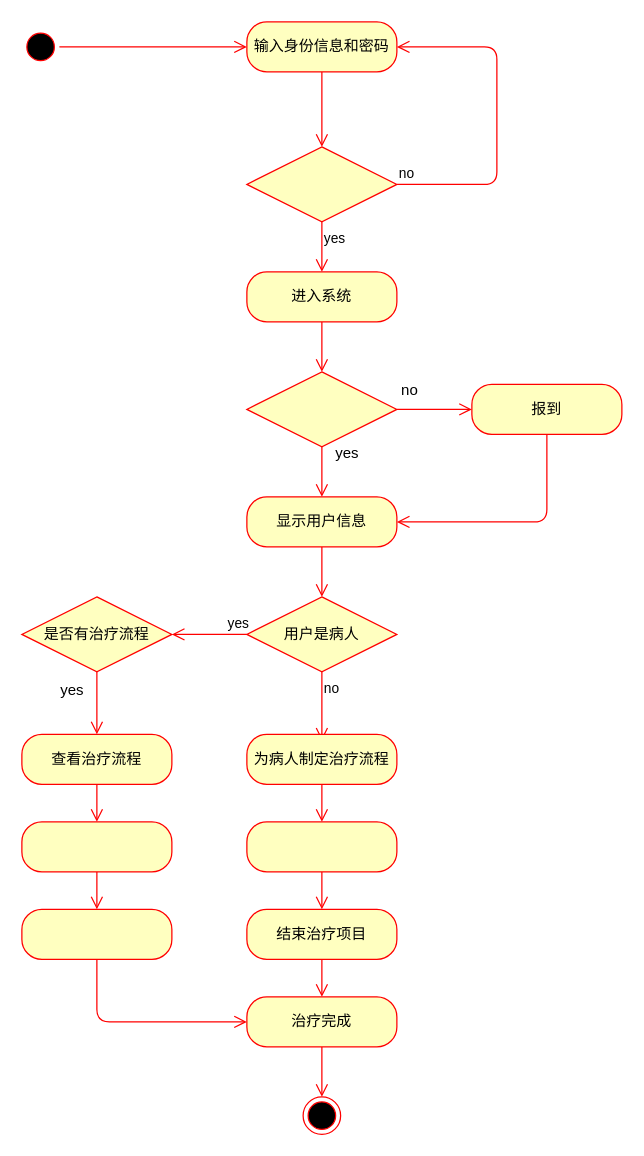
Some shapes in this 644 by 1156 pixel diagram are drawn without their labels. The shapes that lost their labels are listed below. From the top down, each one's centre as x and y in pixels, then its label:
the point at 321,184: 是否正确
the point at 321,409: 是否报到
the point at 96,846: 确认开启治疗项目
the point at 321,846: 开启治疗项目
the point at 96,933: 确认结束治疗项目
